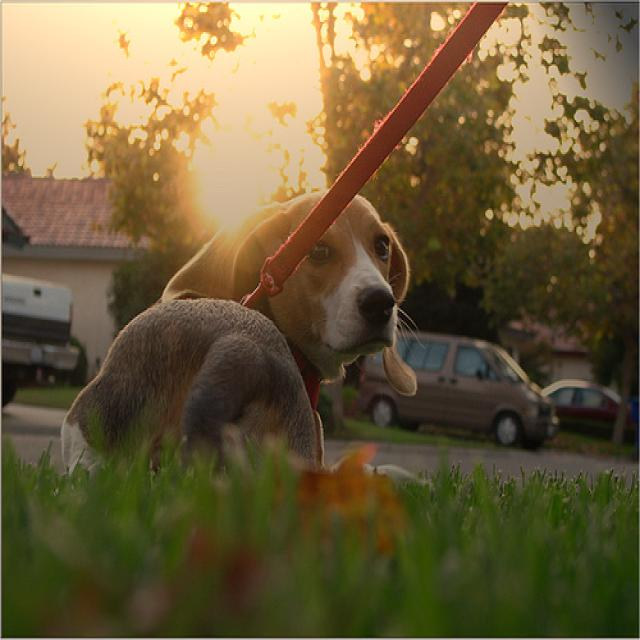dog-beagle: (49, 186, 424, 494)
